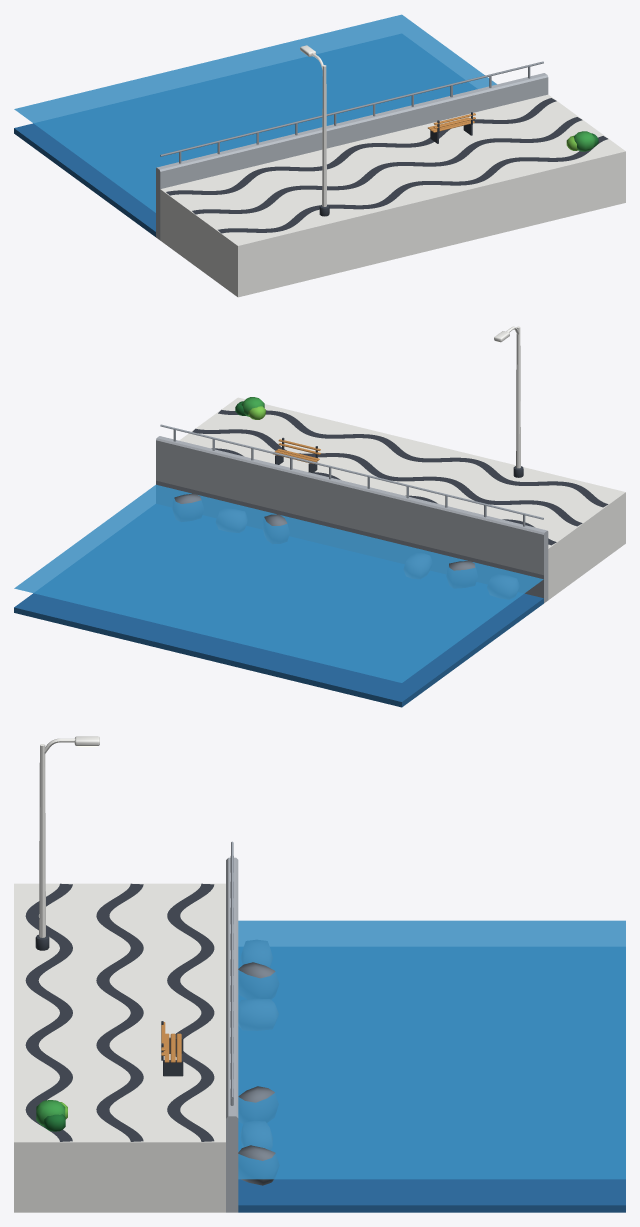
File: orla.glb
3 renders of one model, top to bottom at view 1: azimuth 30°, elevation 25°; view 2: azimuth 150°, elevation 25°; view 3: azimuth 270°, elevation 25°, orthographic. The views are drawn at different scales.
Visible parts, largest first — view 1: orla; view 2: orla; view 3: orla.
Part boxes in pixels (bbox=[...]): orla: bbox=[14, 14, 625, 297]; orla: bbox=[14, 326, 625, 707]; orla: bbox=[14, 736, 625, 1212].
Bounding box in the file's own units: 15 × 7.58 × 15.
Materials: 3 (1 with a texture image).
